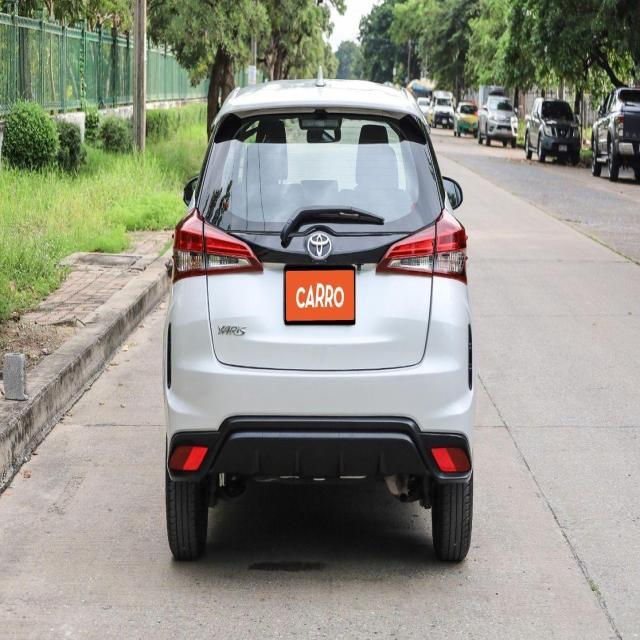Hatchback: (162, 78, 477, 566)
